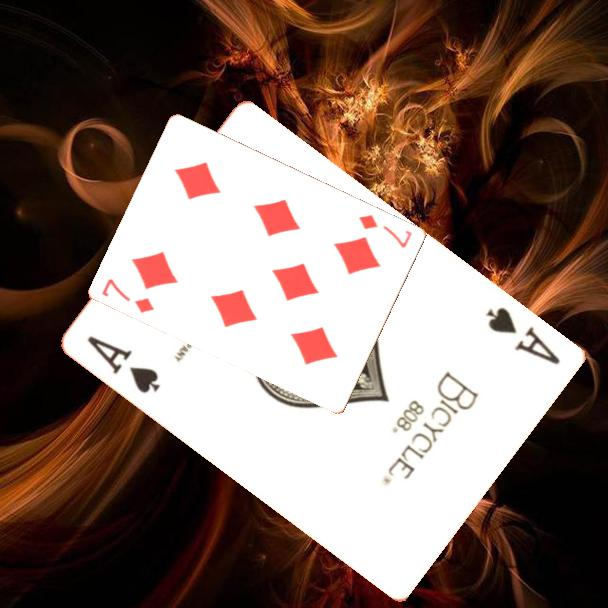d07: (98, 275, 157, 316), (356, 211, 416, 251)
s01: (482, 303, 564, 368), (84, 332, 164, 397)
